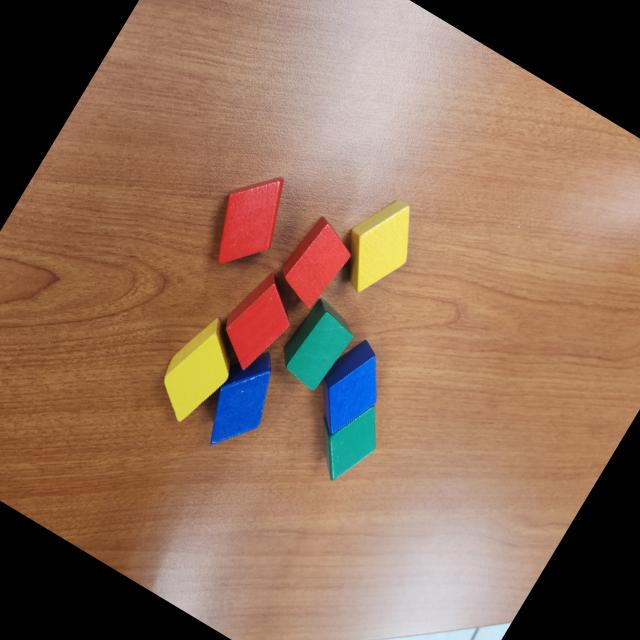blue: (192, 340, 294, 462), (301, 332, 401, 446)
green: (296, 383, 396, 491), (270, 294, 362, 396)
red: (194, 158, 304, 282), (206, 262, 309, 380), (271, 212, 361, 314)
yellow: (146, 308, 252, 432), (326, 187, 432, 305)
